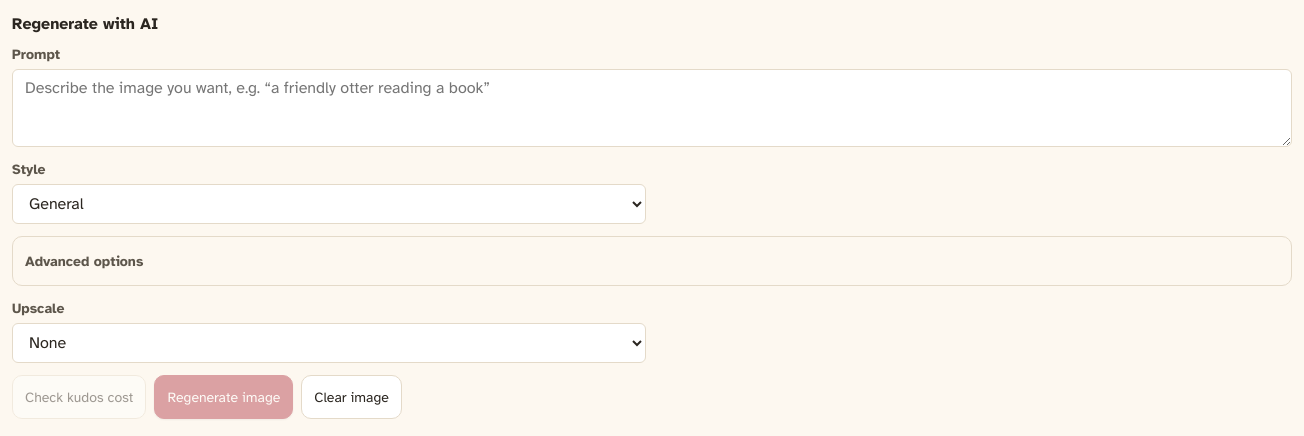
Scenario: ImageGenerationPanel upscale controls › shows an "Upscale via Alchemy" button only for an already-generated image with Alchemy mode selected
Check: the button "upscale via alchemy" is not shown
Select "Alchemy (A/B — keep the original)" in the dropdown labelled "Upscale" at (329, 343), box [12,323,646,363]
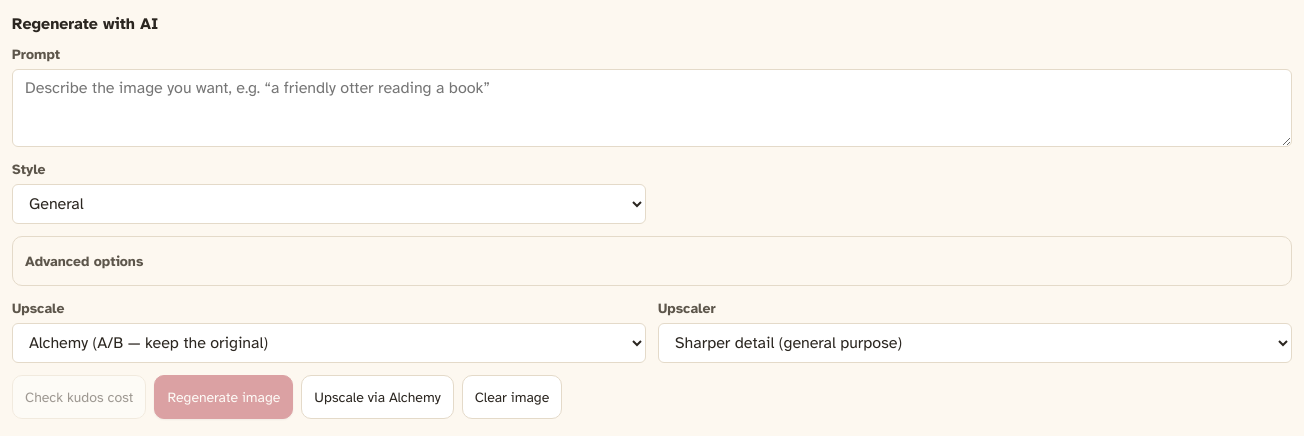
Check: the button "Upscale via Alchemy" is shown, box [301,375,454,419]
